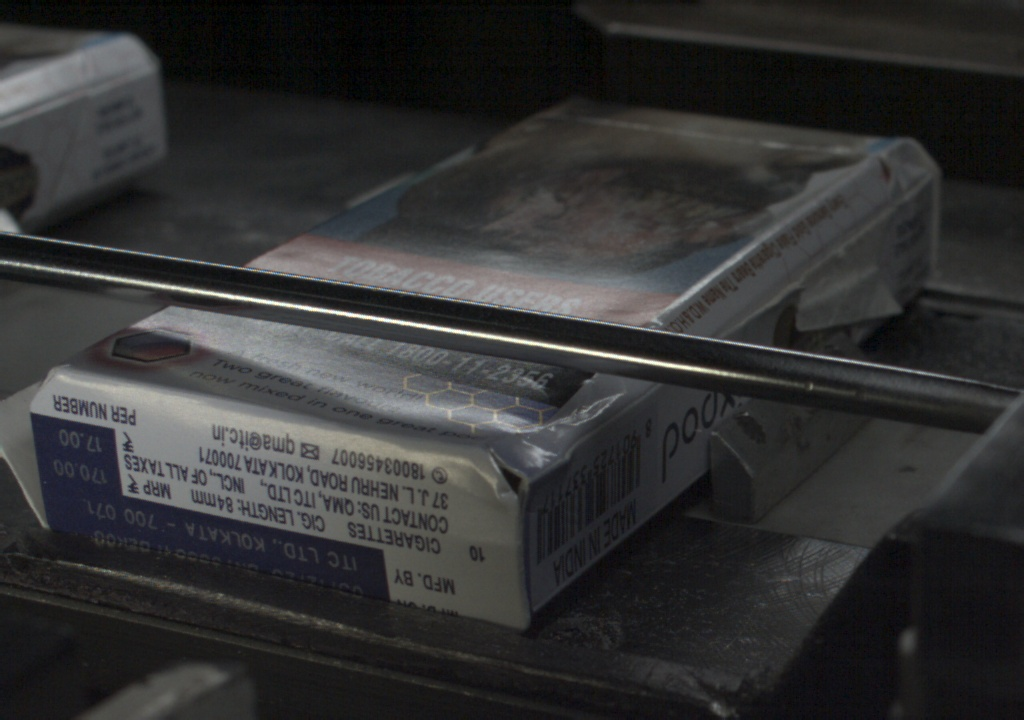g_label: (44, 496, 387, 598)
ng_bottom: (421, 445, 530, 506)
ng_lmiter: (797, 240, 909, 327), (1, 377, 38, 497), (587, 384, 650, 433), (530, 433, 587, 486)
ng_miter: (895, 156, 935, 203)
price: (39, 422, 124, 493)
